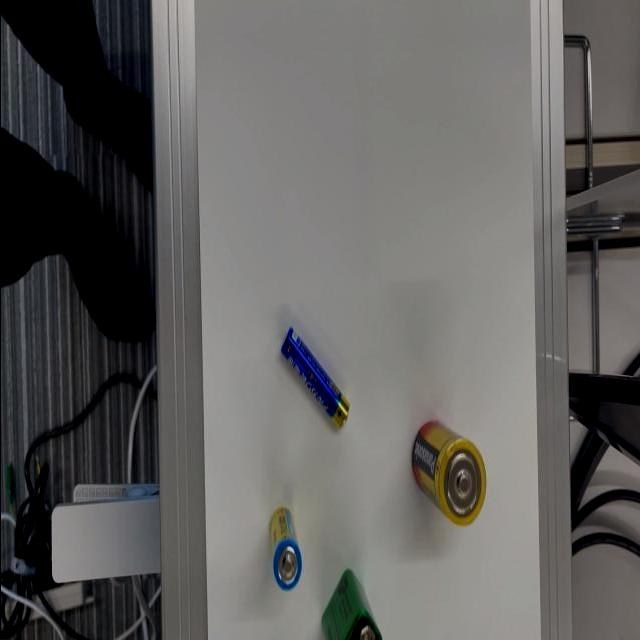9V: (320, 566, 385, 640)
